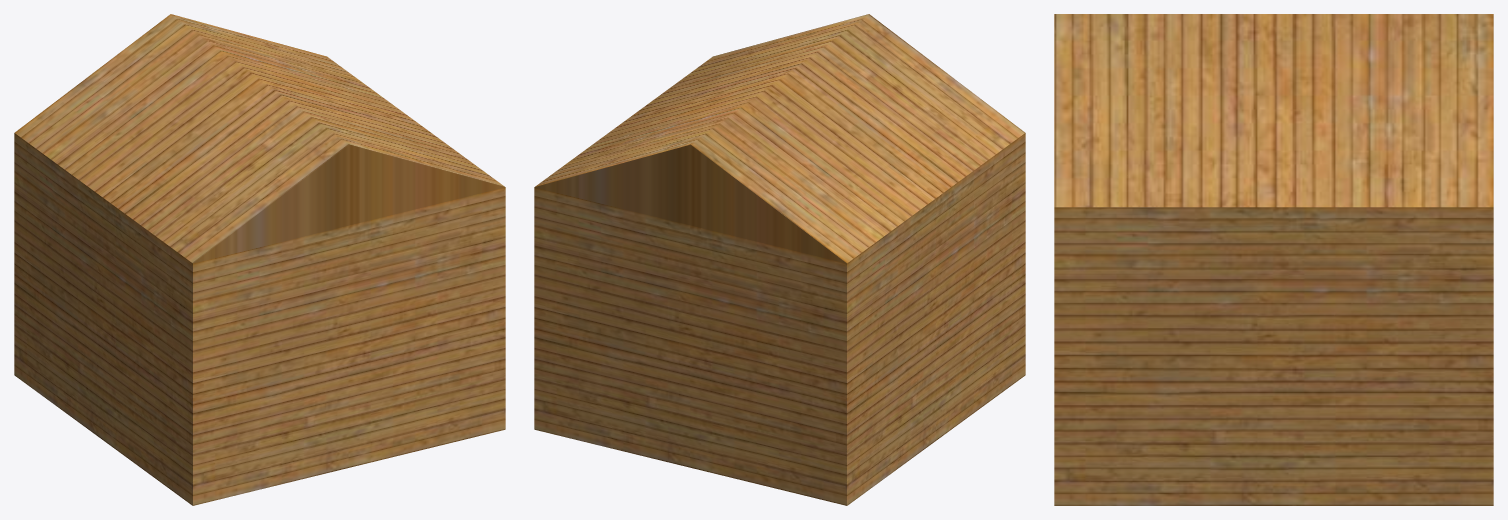
Rendered from Standard-Toilets.FBX.
3 renders of one model, left to right at view 1: azimuth 30°, elevation 25°; view 2: azimuth 150°, elevation 25°; view 3: azimuth 270°, elevation 25°, orthographic. The views are drawn at different scales.
Parts seen in each view (by area): view 1: ticket_stand; view 2: ticket_stand; view 3: ticket_stand.
Boxes of the visible parts, box(x1,y1,x2,y2) form: ticket_stand: box(14, 14, 505, 505); ticket_stand: box(534, 14, 1025, 505); ticket_stand: box(1054, 14, 1493, 505).
Size of the model in its own units: 3.04 by 3 by 3.
Materials: 1 (1 with a texture image).
